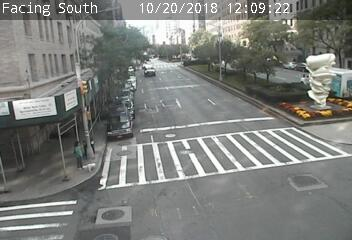carw: (143, 64, 158, 78)
